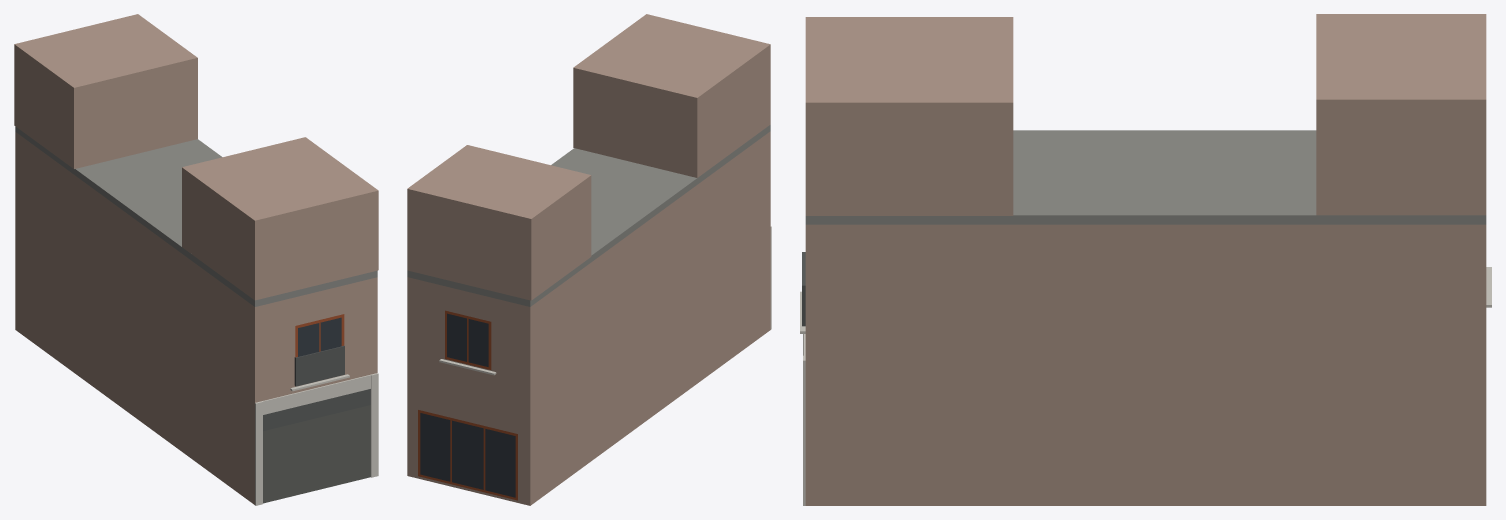
Rendered from oo-sb-gate-french__brick__2__flat__long__solid.glb.
3 views of the same model, side by side, from view 1: azimuth 30°, elevation 25°; view 2: azimuth 150°, elevation 25°; view 3: azimuth 270°, elevation 25° (orthographic). The views are drawn at different scales.
Visible parts, largest first — view 1: oo-sb-gate-french__brick__2__flat__long__solid; view 2: oo-sb-gate-french__brick__2__flat__long__solid; view 3: oo-sb-gate-french__brick__2__flat__long__solid.
Boxes of the visible parts, <box> form: oo-sb-gate-french__brick__2__flat__long__solid: <box>14,14,378,505</box>; oo-sb-gate-french__brick__2__flat__long__solid: <box>407,14,771,505</box>; oo-sb-gate-french__brick__2__flat__long__solid: <box>800,14,1491,505</box>.
Bounding box in the file's own units: 4.34 × 9.5 × 14.66.
